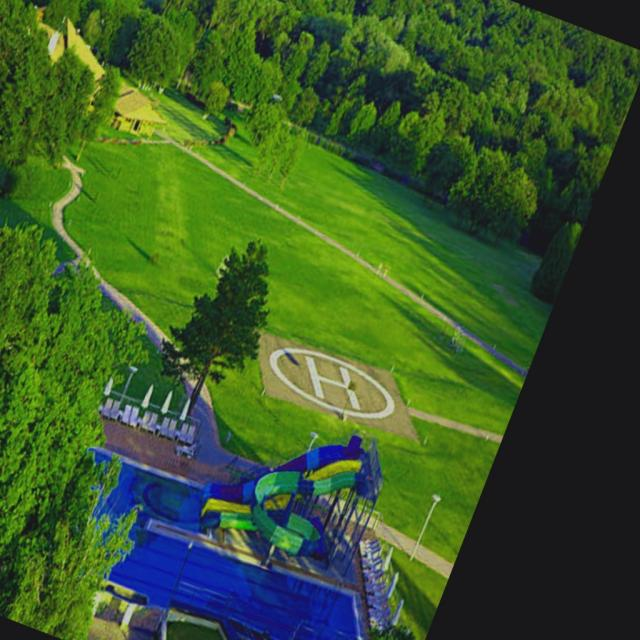helipad: (265, 343, 399, 422)
